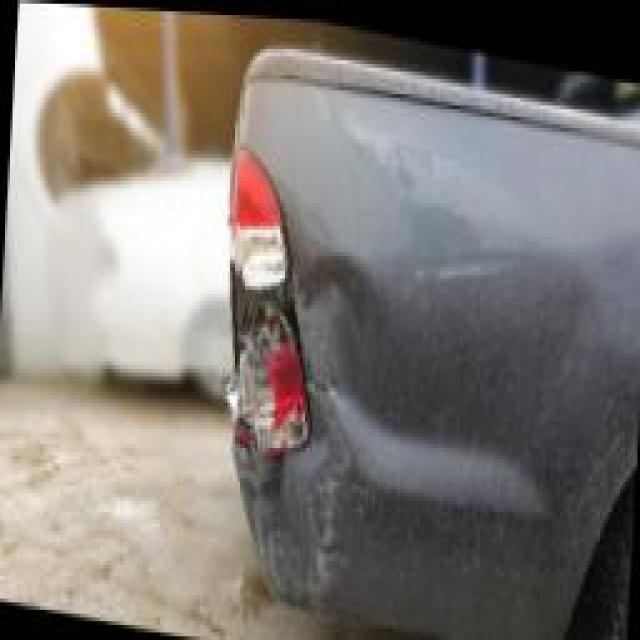Light: (208, 136, 315, 454)
